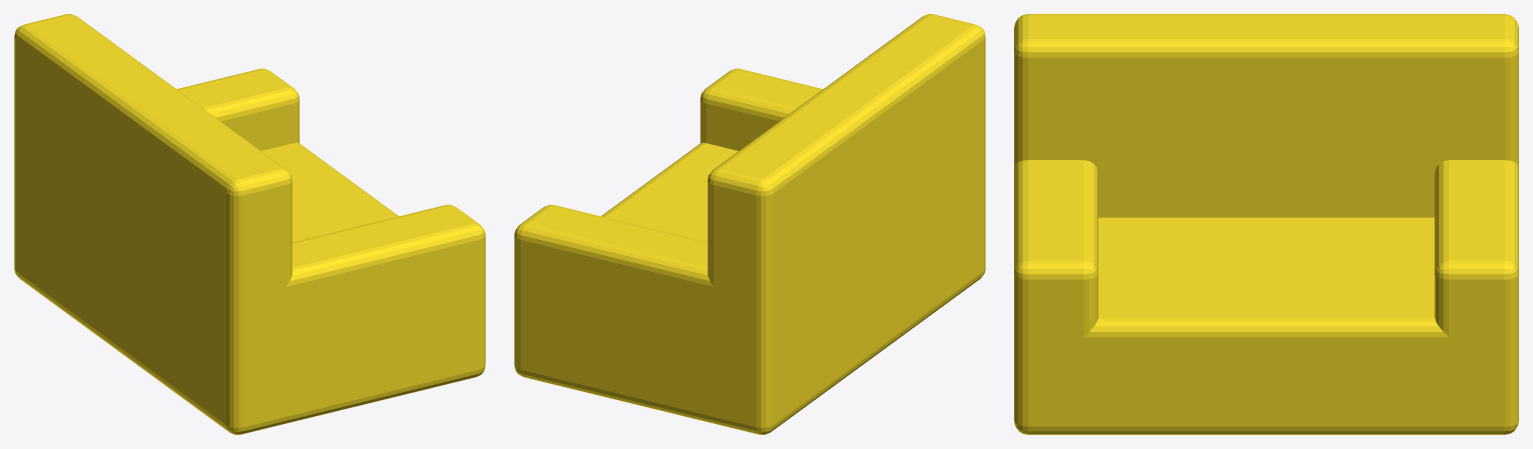
File: openscad_customizable-furniture-minis.glb
3 views of the same model, side by side, from view 1: azimuth 30°, elevation 25°; view 2: azimuth 150°, elevation 25°; view 3: azimuth 270°, elevation 25° (orthographic). The views are drawn at different scales.
Visible parts, largest first — view 1: object; view 2: object; view 3: object.
Boxes of the visible parts, x1,y1,x2,y2 form: object: (14, 14, 485, 434); object: (514, 14, 985, 434); object: (1014, 14, 1518, 434).
Bounding box in the file's own units: 18.29 × 17.27 × 27.43.
